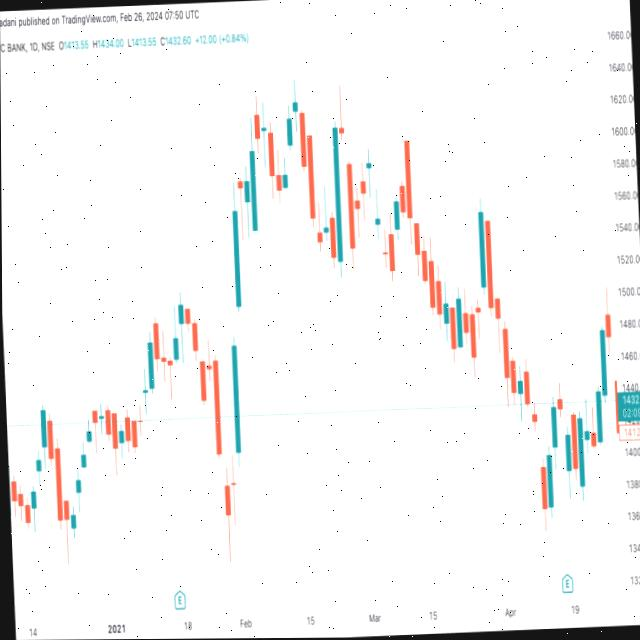Gap Down: (336, 84, 360, 266), (528, 397, 551, 541), (554, 381, 574, 493)
Gap Up: (219, 182, 256, 483), (276, 105, 295, 201)
